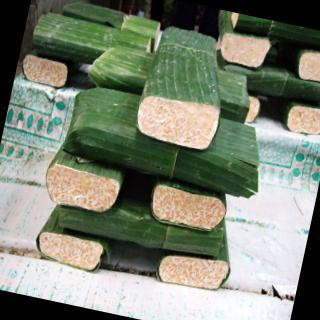Tempe: (60, 80, 274, 201), (55, 183, 227, 263), (30, 9, 156, 76), (41, 148, 128, 217), (133, 90, 223, 153), (220, 55, 320, 108), (147, 180, 230, 235), (87, 40, 156, 97), (155, 248, 231, 296), (34, 229, 106, 274), (207, 68, 257, 124), (218, 29, 273, 71), (61, 1, 127, 30), (20, 53, 71, 90), (118, 13, 163, 53), (267, 21, 320, 54), (280, 99, 320, 140), (292, 45, 320, 87), (229, 13, 273, 37), (244, 95, 263, 125)
